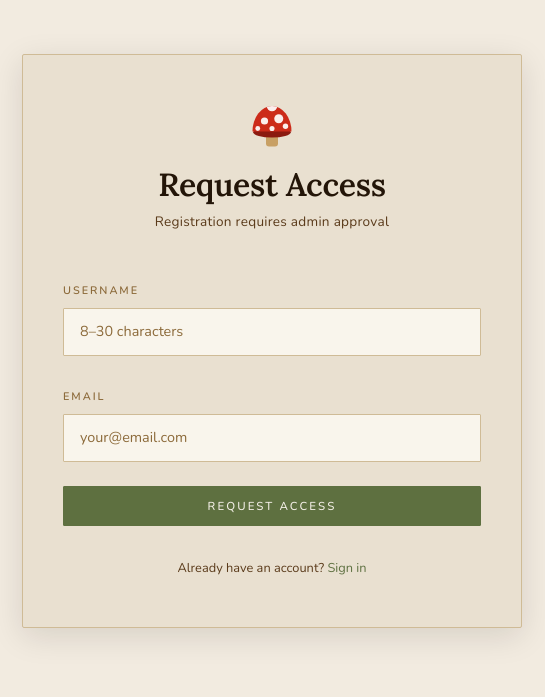
Register › shows error when registration request fails
In the field labelled "Username": coordinates (272, 332) [63,308,481,356], type "validuser"
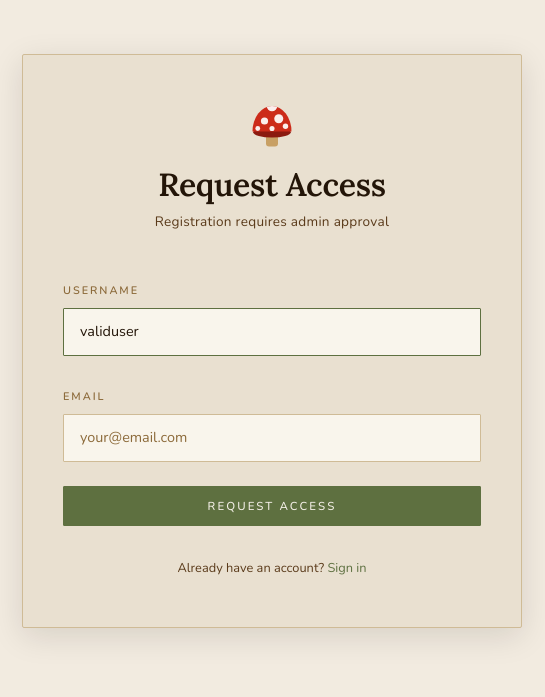
In the field labelled "Email": coordinates (272, 438) [63,414,481,462], type "test@example.com"
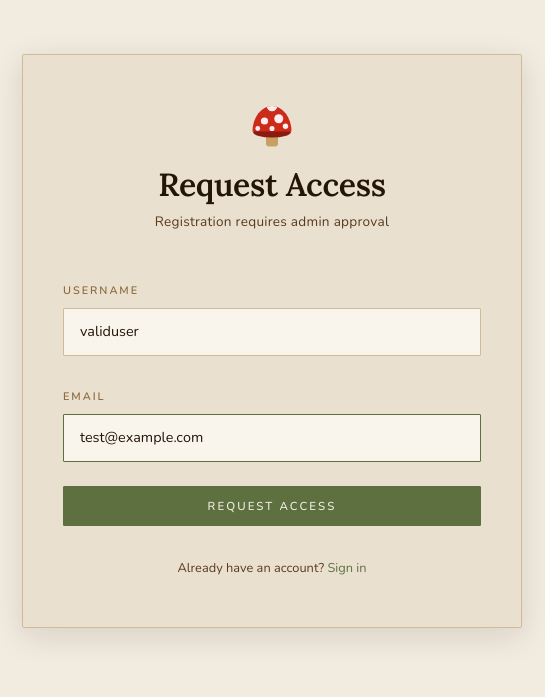
Click the button "Request Access": coordinates (272, 506) [63,486,481,526]
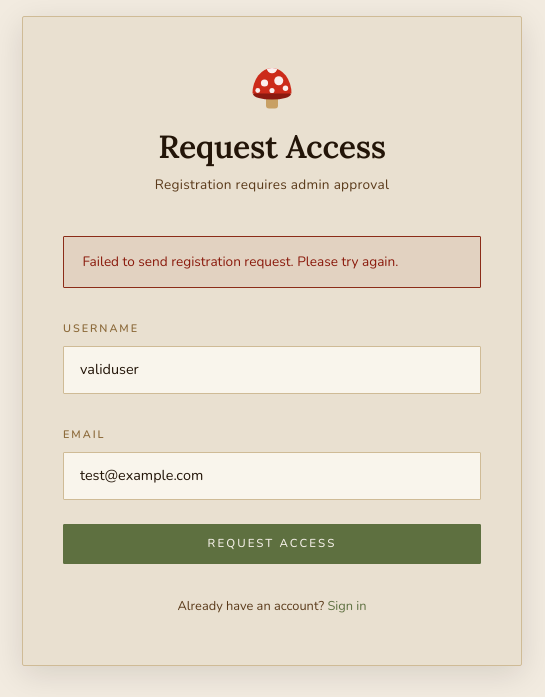
Expected: the text "Failed to send registration request. Please try again." is shown, [63,236,481,288]
